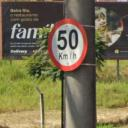speed_limit_50: (47, 18, 88, 71)
